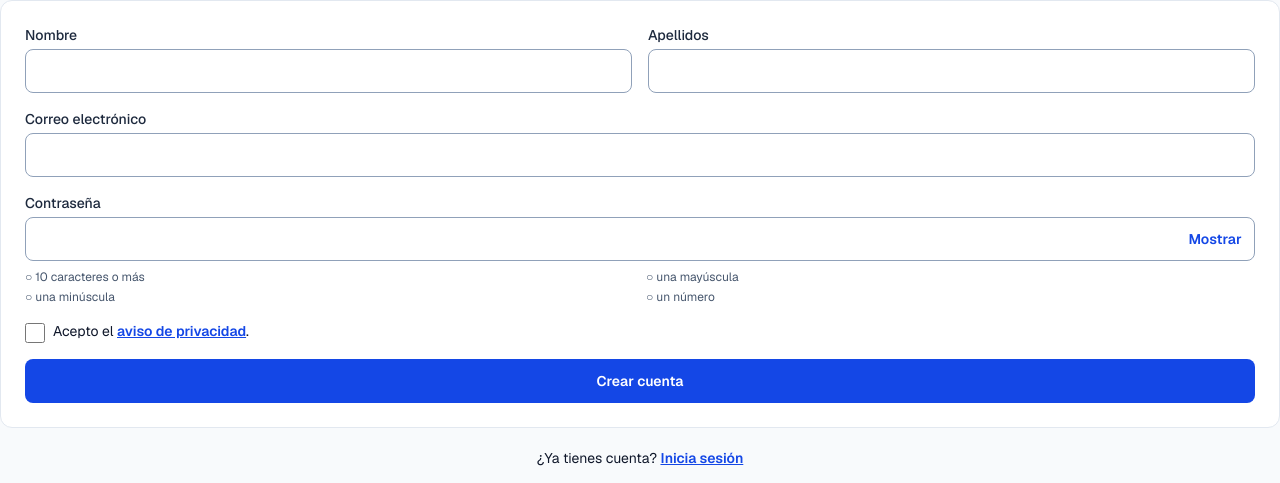
formularios públicos › registro: el éxito indica revisar el correo
The image size is (1280, 483).
Type "Ana" into the field labelled "Nombre" at (328, 71), box [25,49,632,93]
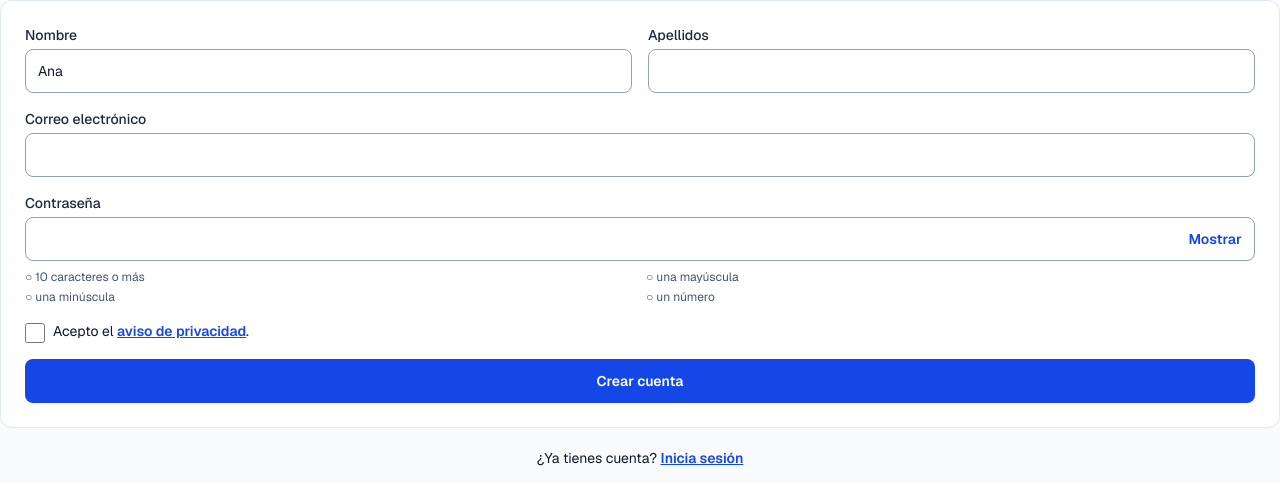
Type "Prueba" into the field labelled "Apellidos" at (952, 71), box [648,49,1255,93]
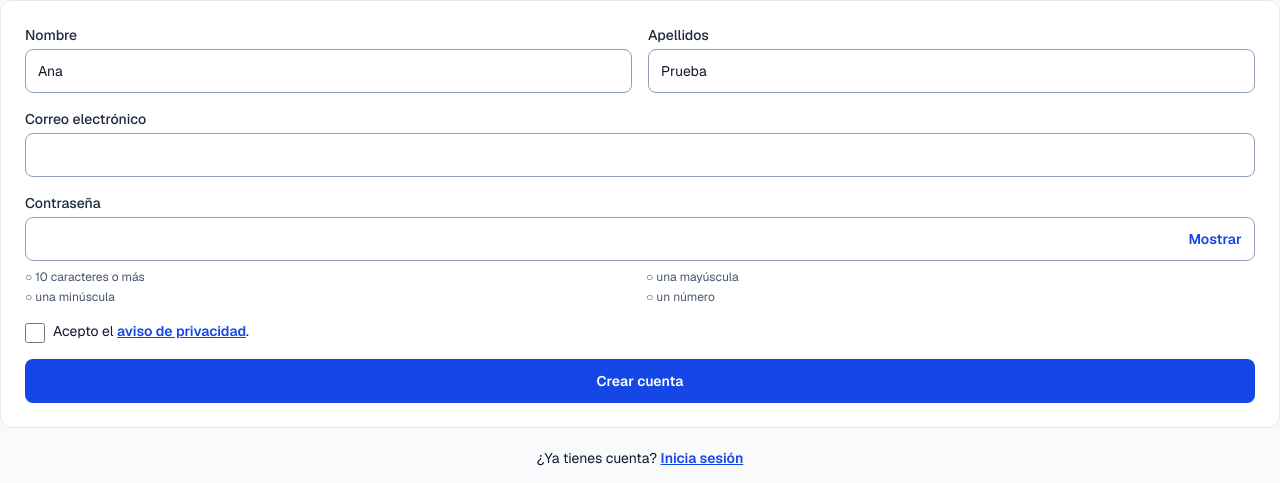
Type "ana@iinicia.test" into the field labelled "Correo electrónico" at (640, 155), box [25,133,1255,177]
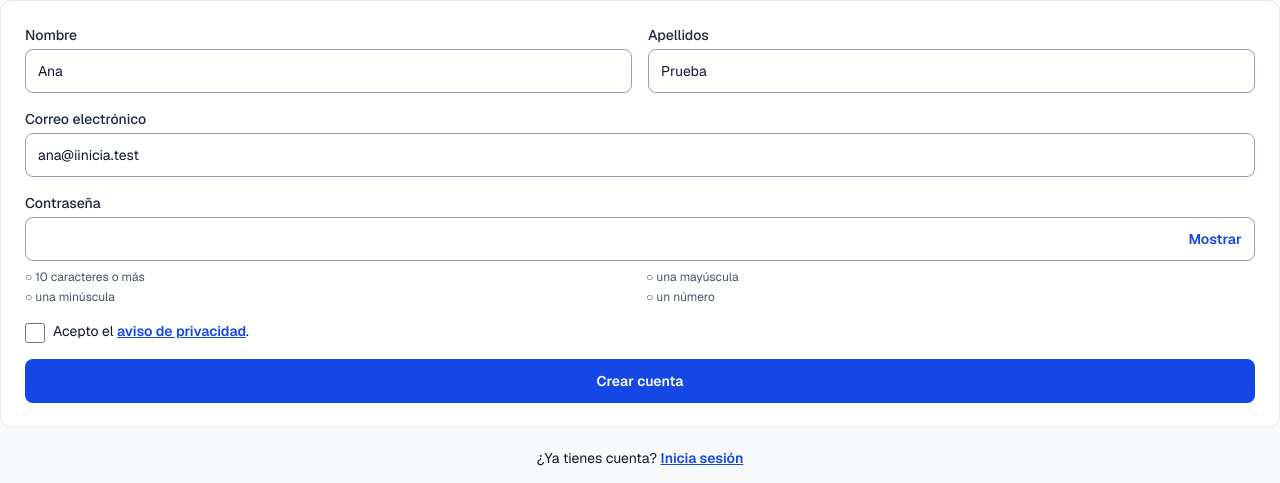
Type "Segura12345" into the password field labelled "Contraseña" at (640, 239), box [25,217,1255,261]
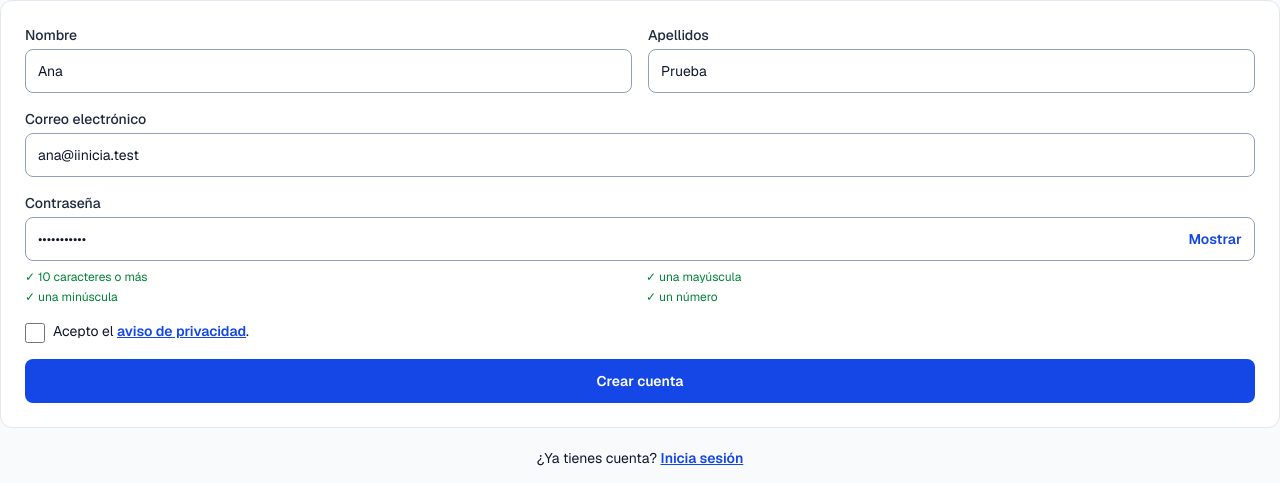
Click the checkbox at (35, 333), box [25,323,45,343]
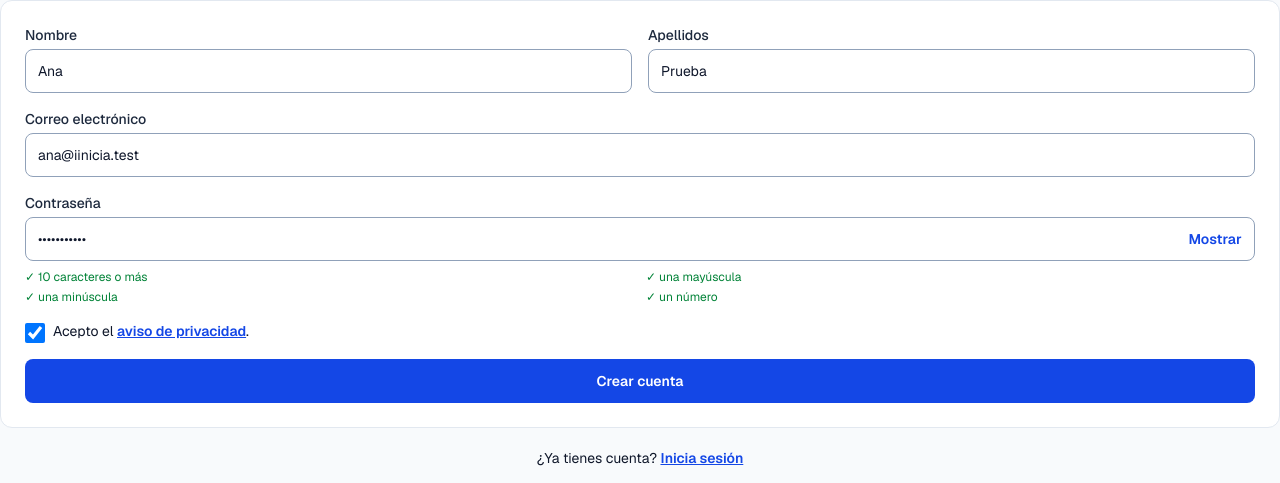
Submit the form named "Crear cuenta"
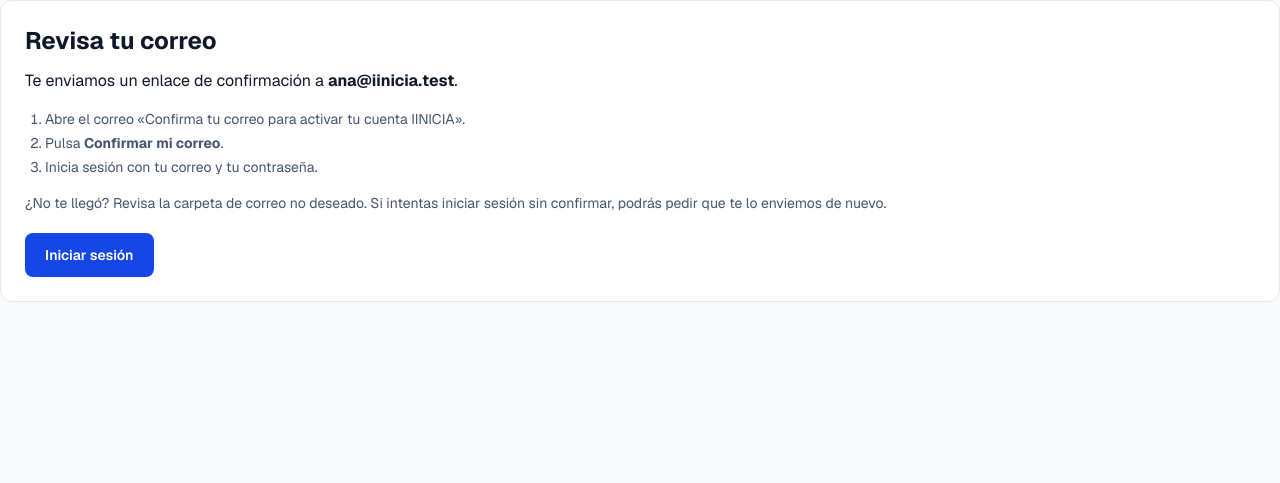
Expected: the heading "Revisa tu correo" is shown, [25,25,217,56]
